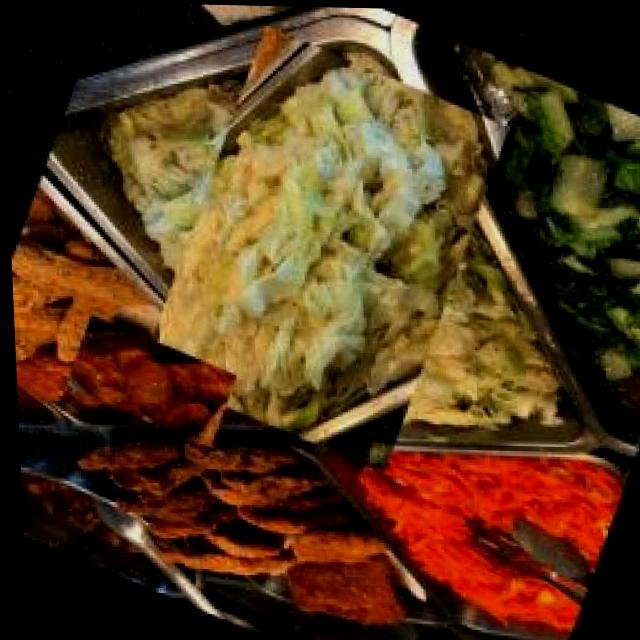carrot_eggs: (377, 436, 612, 628)
chinese_cabbage: (109, 37, 537, 457)
triangle_hash_brown: (59, 314, 237, 450)
